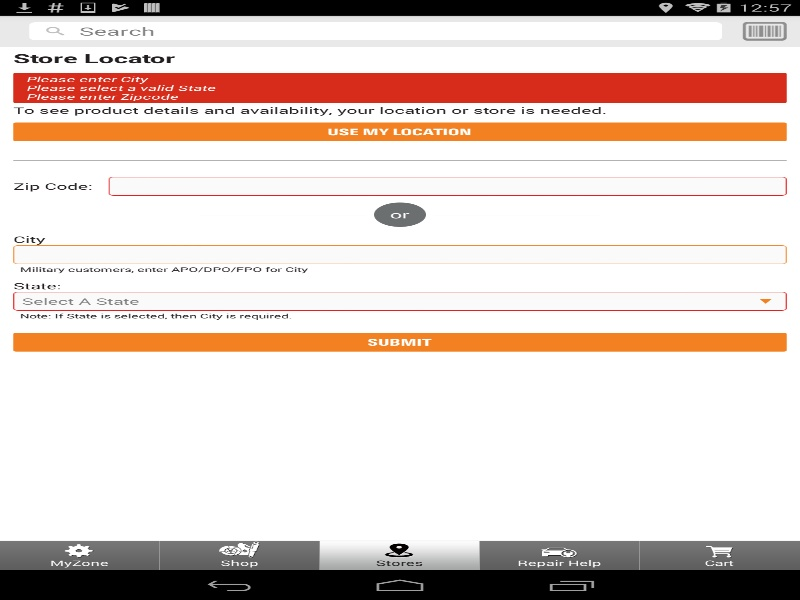Input: (13, 245, 786, 264), (108, 176, 786, 195), (79, 21, 722, 40)
